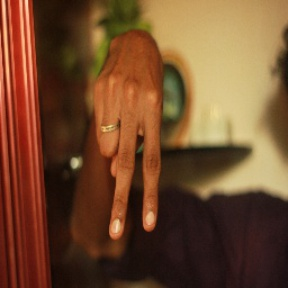Y: (85, 71, 174, 244)
